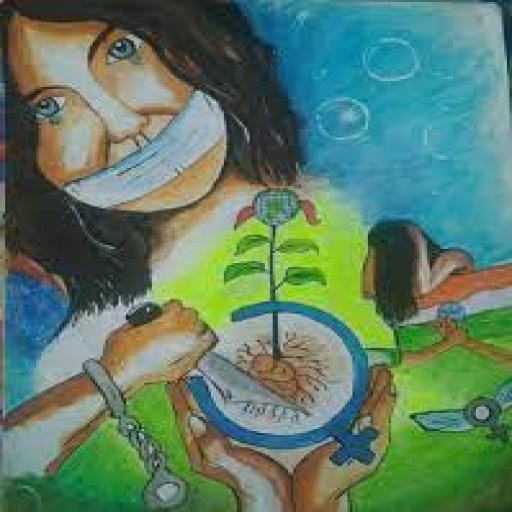person: (0, 0, 300, 299), (353, 204, 484, 354)
